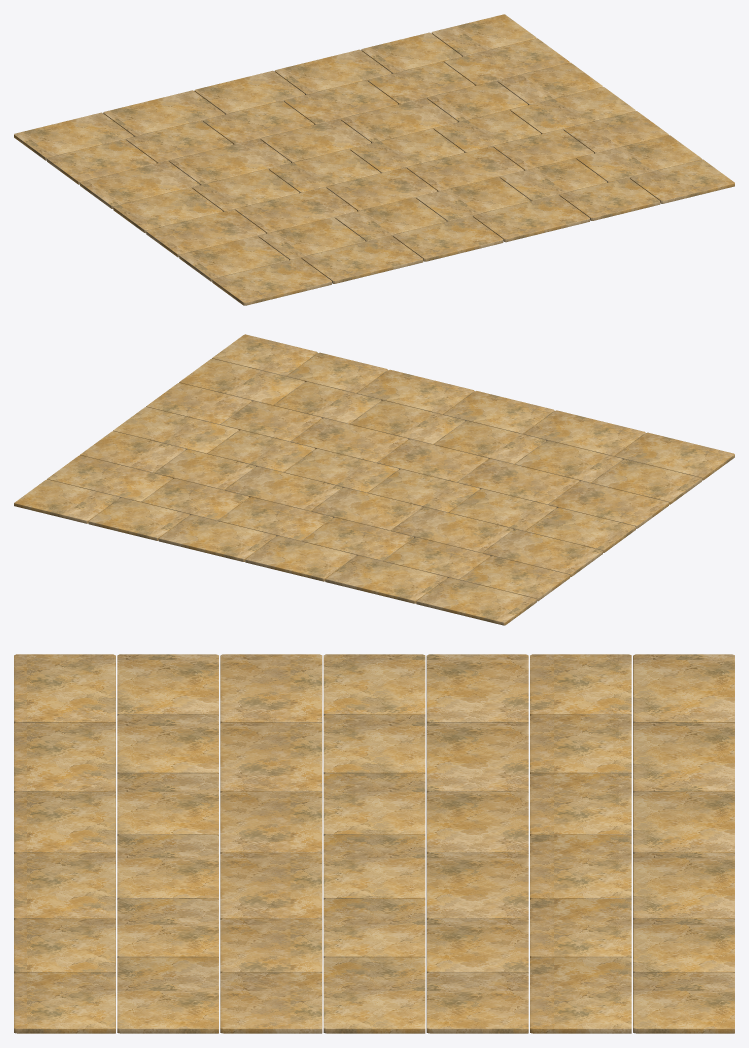
File: CM_SW14_FlagstoneFinish.fbx
3 views of the same model, one above another, from view 1: azimuth 30°, elevation 25°; view 2: azimuth 150°, elevation 25°; view 3: azimuth 270°, elevation 25° (orthographic). The views are drawn at different scales.
Parts seen in each view (by area): view 1: CM_SW14_FlagstoneFinish; view 2: CM_SW14_FlagstoneFinish; view 3: CM_SW14_FlagstoneFinish.
Boxes of the visible parts, left/top/right/bottom form: CM_SW14_FlagstoneFinish: left=14, top=14, right=734, bottom=305; CM_SW14_FlagstoneFinish: left=14, top=334, right=734, bottom=625; CM_SW14_FlagstoneFinish: left=14, top=654, right=734, bottom=1033.
Size of the model in its own units: 5.38 by 0.033 by 4.38.
